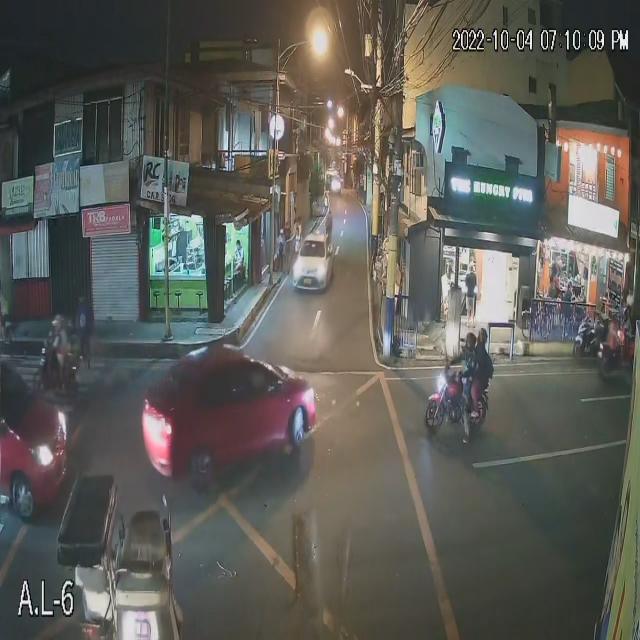helmet: (453, 331, 476, 354), (475, 327, 491, 346), (49, 316, 64, 329)
motorcycle: (425, 364, 488, 440), (36, 346, 80, 401), (572, 317, 603, 363)
rider: (450, 355, 478, 427), (469, 346, 494, 420), (49, 332, 68, 390)
